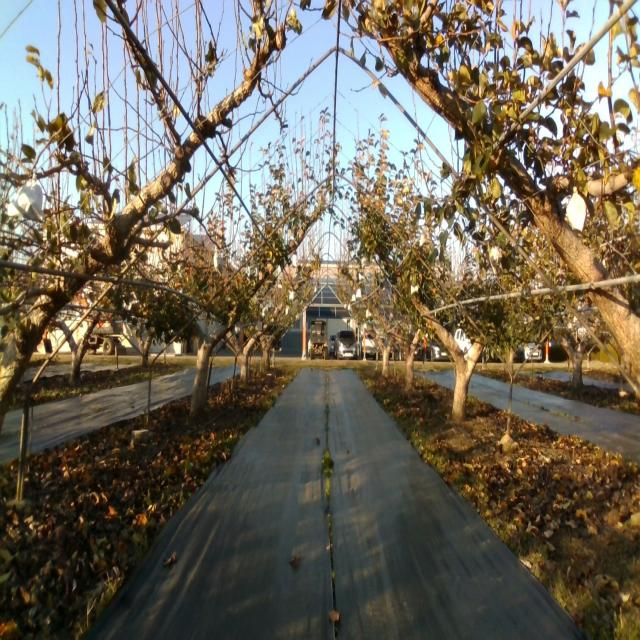pearbags: (6, 176, 45, 225), (566, 186, 586, 232), (489, 244, 502, 276), (213, 244, 224, 275), (420, 224, 434, 248)
